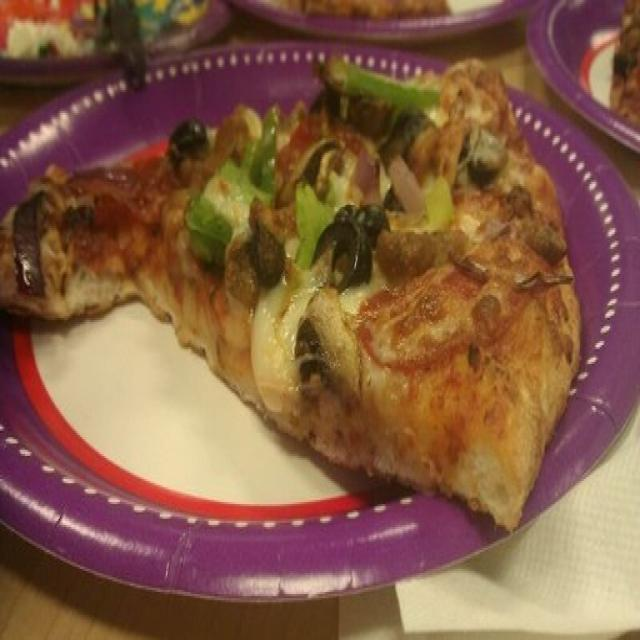Green Pepper: (230, 111, 280, 204), (340, 72, 442, 108), (293, 179, 324, 270), (190, 207, 230, 267), (428, 176, 452, 233), (320, 178, 344, 223)
Olives: (319, 206, 382, 296), (171, 116, 205, 160)
Onions: (349, 148, 384, 202), (394, 169, 421, 208)
Pizza: (1, 61, 580, 529)
Red Pepper: (288, 115, 319, 152)
